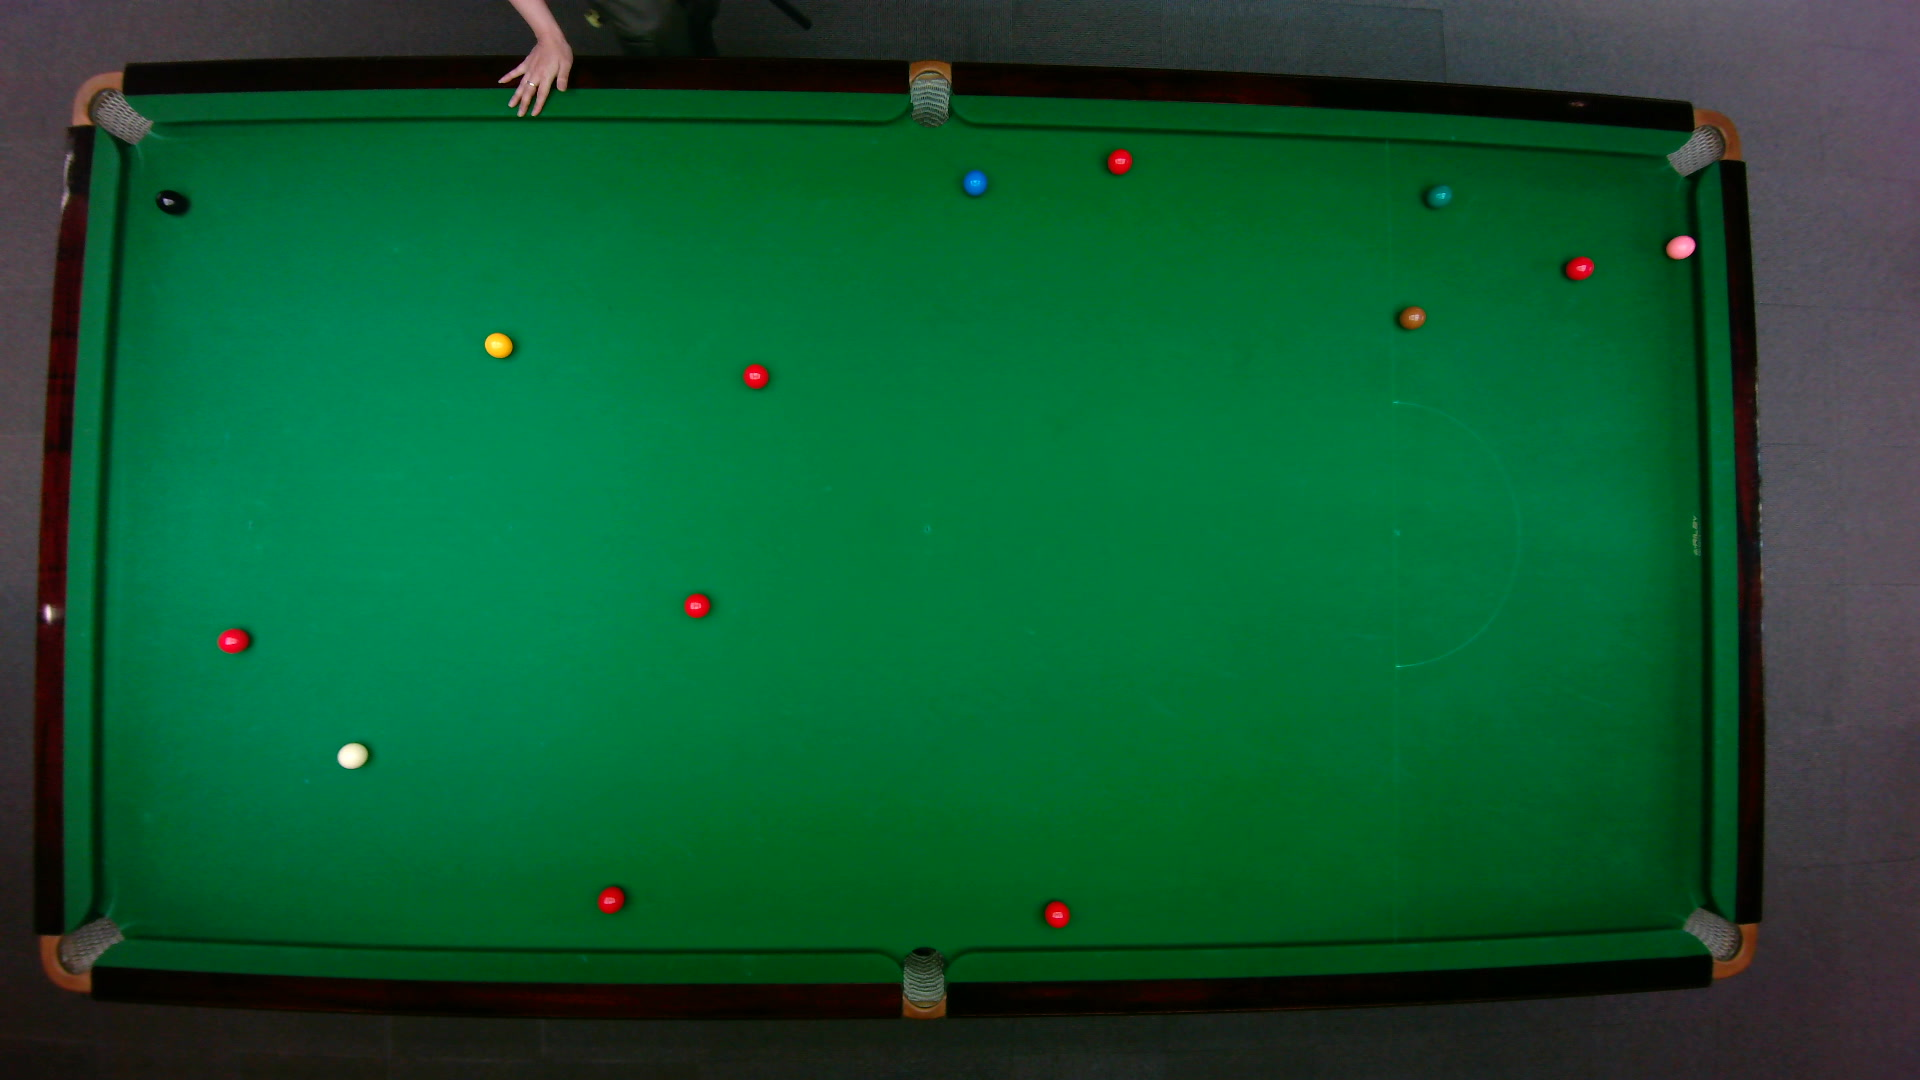bag: (37, 914, 125, 992), (69, 69, 153, 145), (1679, 905, 1756, 978), (1663, 107, 1741, 177), (899, 944, 944, 1021), (909, 57, 949, 127)
black: (154, 189, 185, 215)
blue: (961, 167, 988, 196)
brown: (1396, 305, 1427, 328)
green: (1423, 182, 1453, 208)
pink: (1663, 232, 1697, 260)
red: (215, 626, 251, 653), (596, 884, 625, 914), (1563, 253, 1596, 280), (1042, 899, 1071, 928), (1105, 146, 1133, 175), (682, 592, 709, 618), (741, 363, 769, 389)
white: (335, 740, 369, 769)
yellow: (481, 328, 513, 359)
zone: (1390, 400, 1520, 669)
